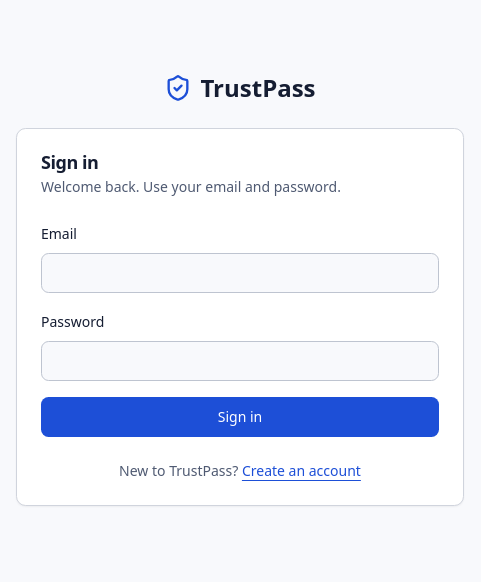
LoginPage › offers to resend the verification email when the address is not verified
This screenshot has width=481, height=582.
Type "mia@example.test" into the field labelled "Email" at (240, 273), box [41, 253, 439, 293]
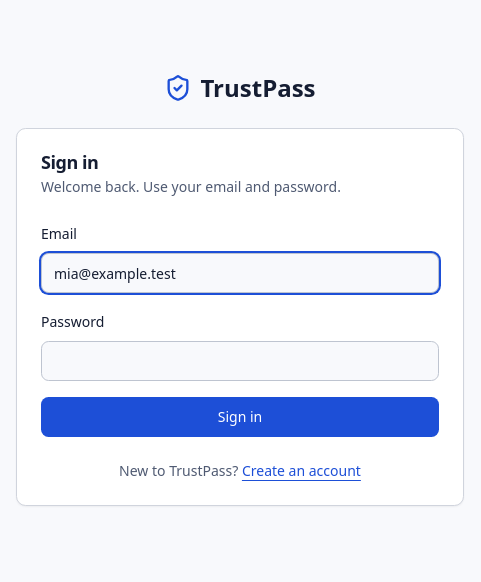
Type "whatever" into the password field labelled "Password" at (240, 361), box [41, 341, 439, 381]
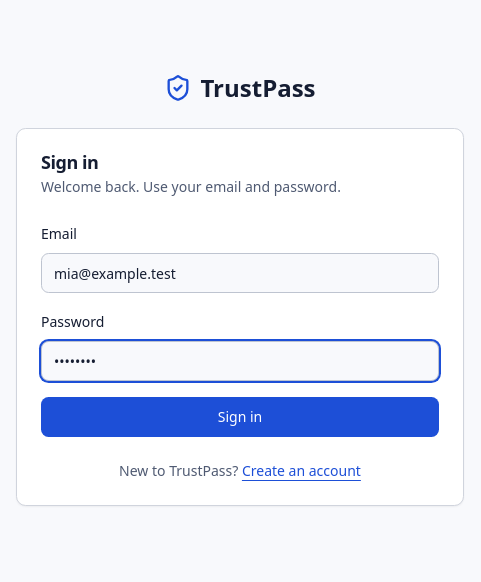
Click the button "Sign in" at (240, 417), box [41, 397, 439, 437]
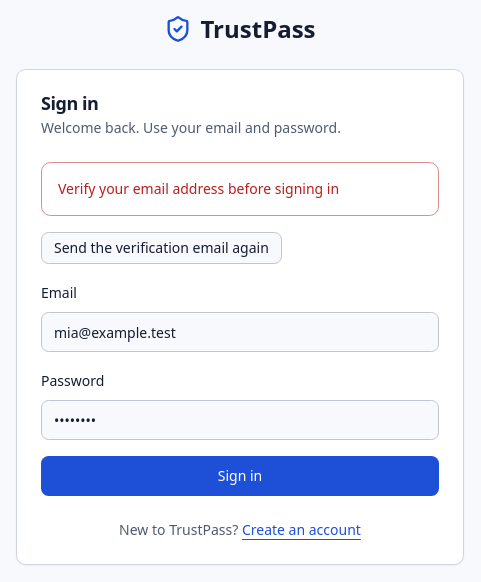
expect the button "Send the verification email again" is shown: met, box [41, 232, 282, 264]
